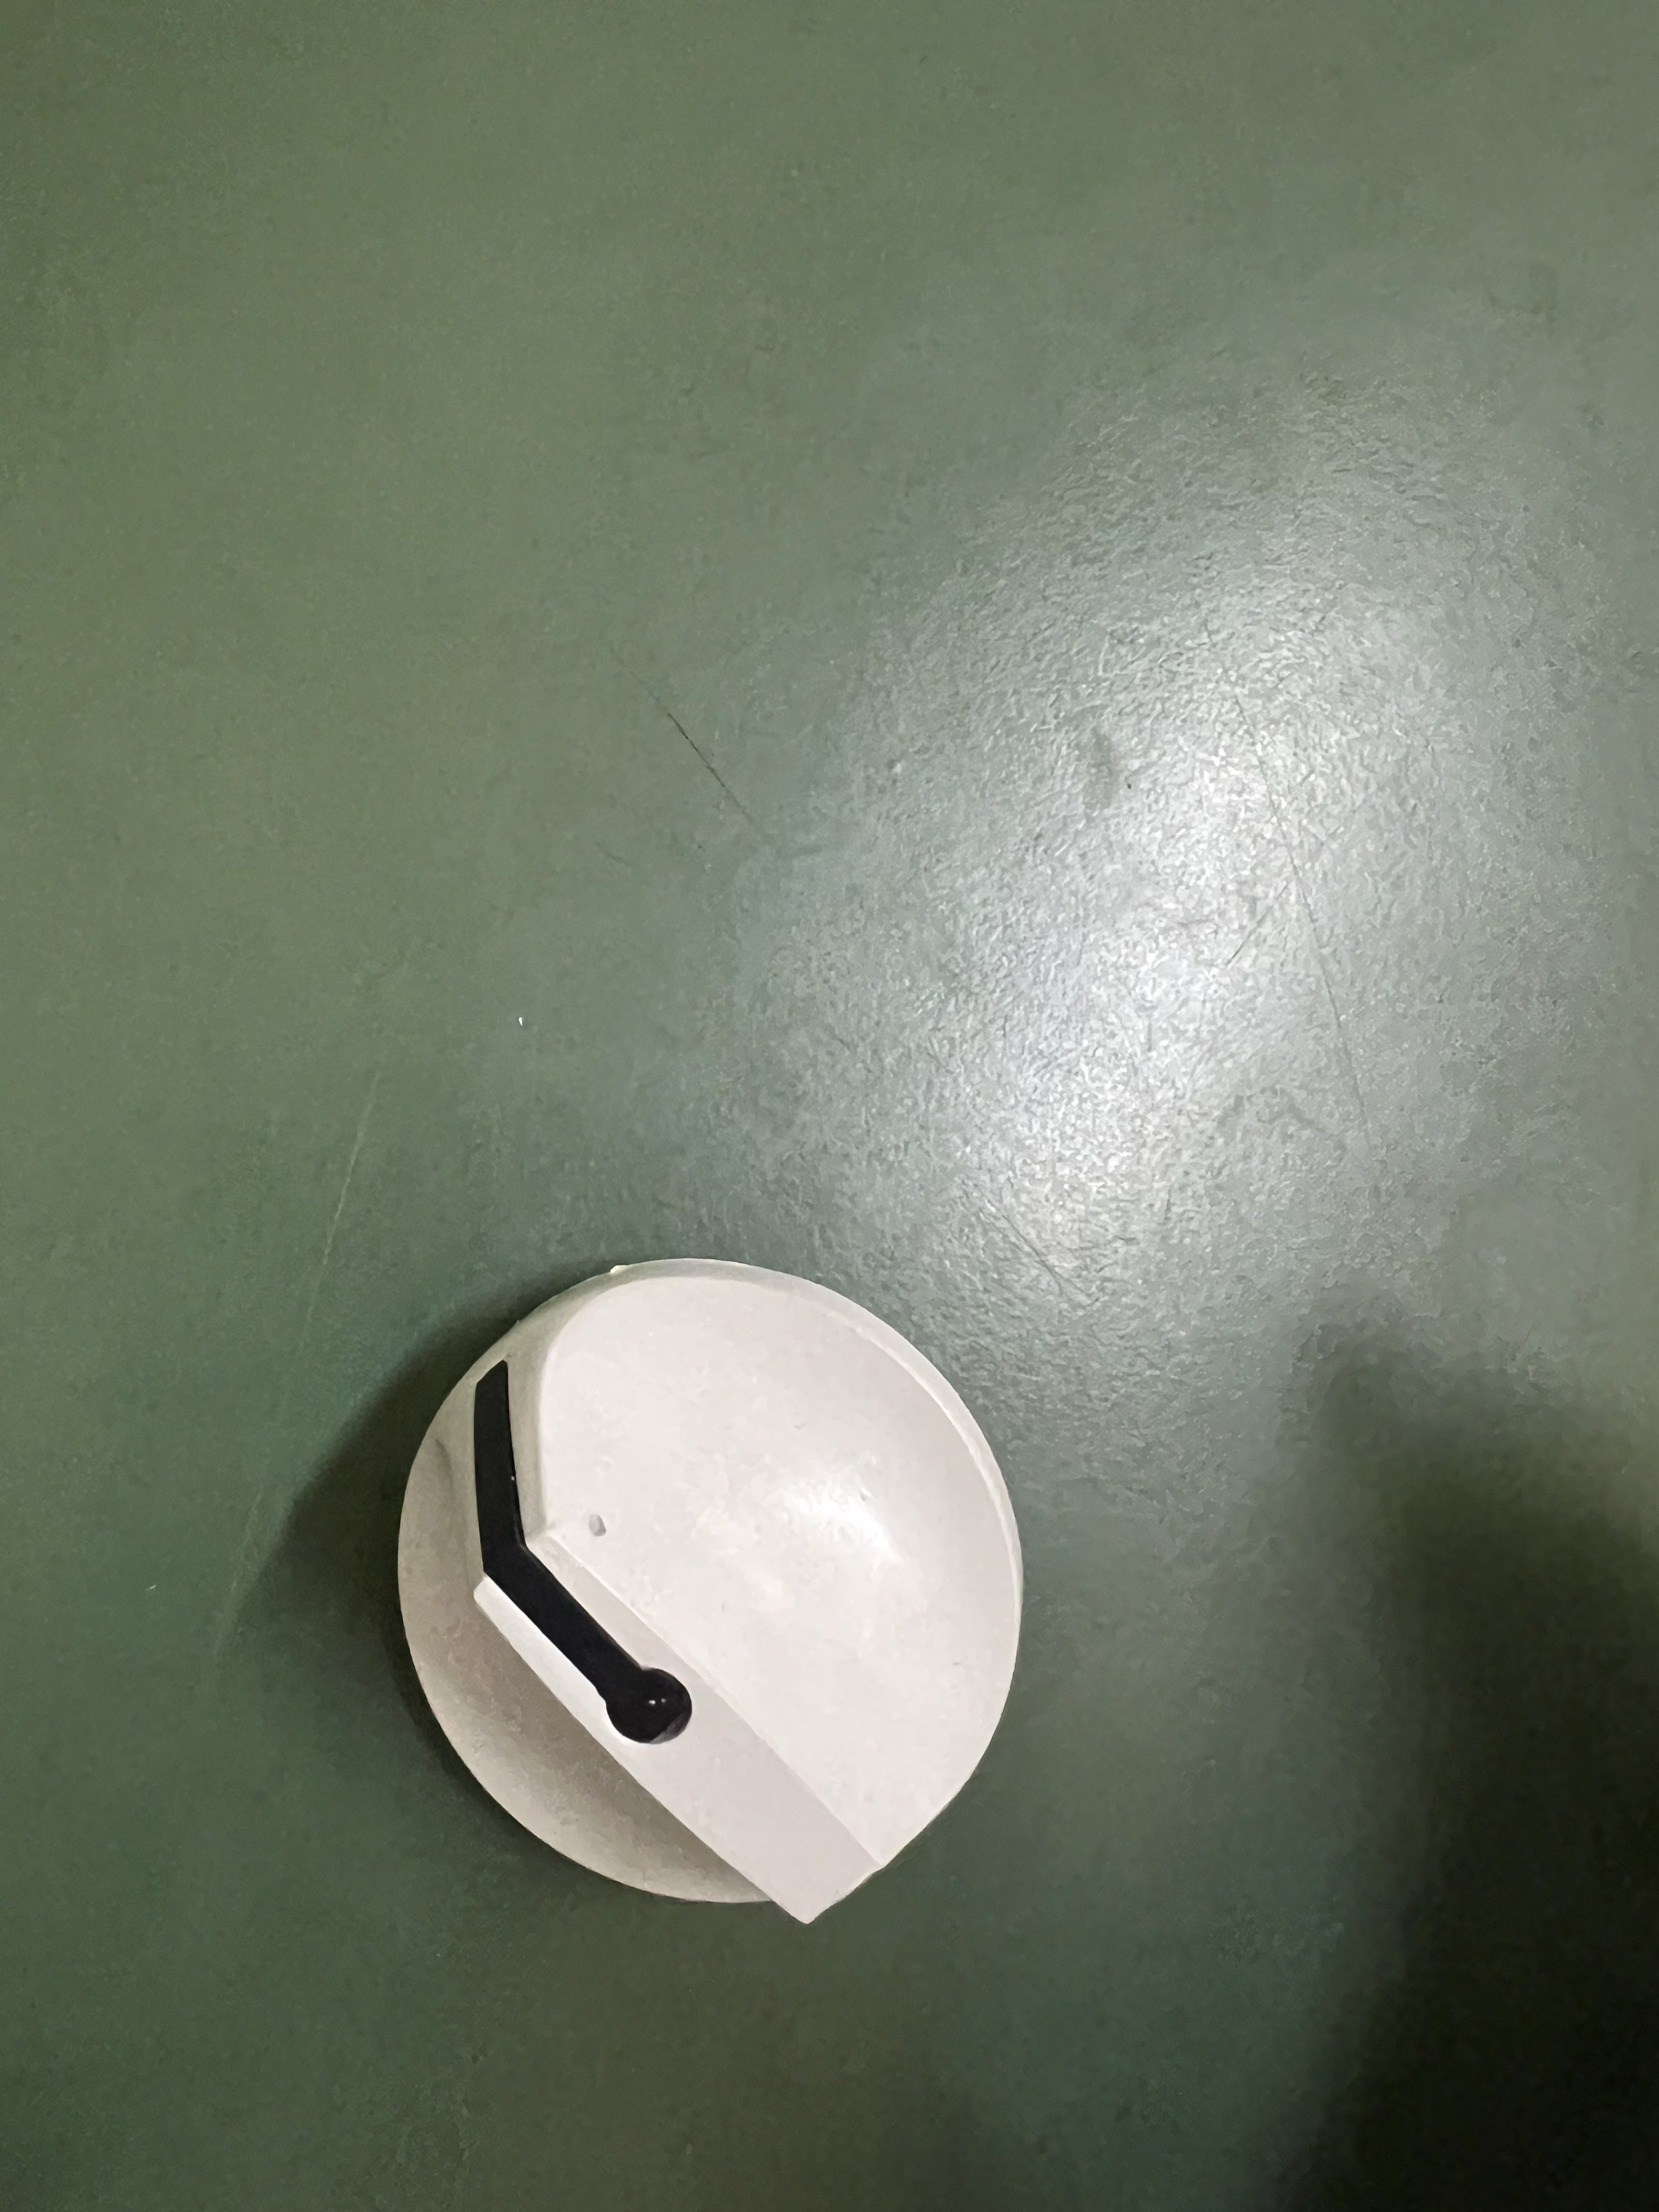regulator: (373, 1204, 1049, 1993)
